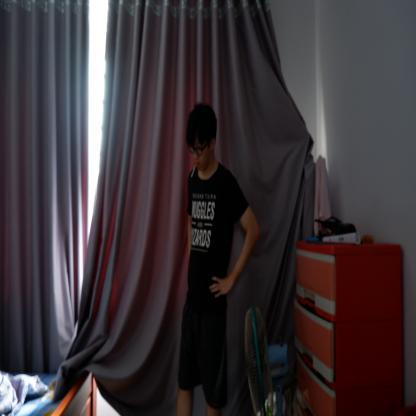cigarette: (191, 162, 197, 178)
person: (177, 104, 258, 415)
